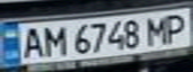4: (106, 17, 127, 52)
6: (69, 20, 93, 55)
7: (87, 19, 109, 53)
8: (121, 16, 145, 48)
A: (18, 25, 48, 60)
M: (142, 13, 175, 46), (39, 23, 69, 57)
P: (160, 10, 193, 44)
